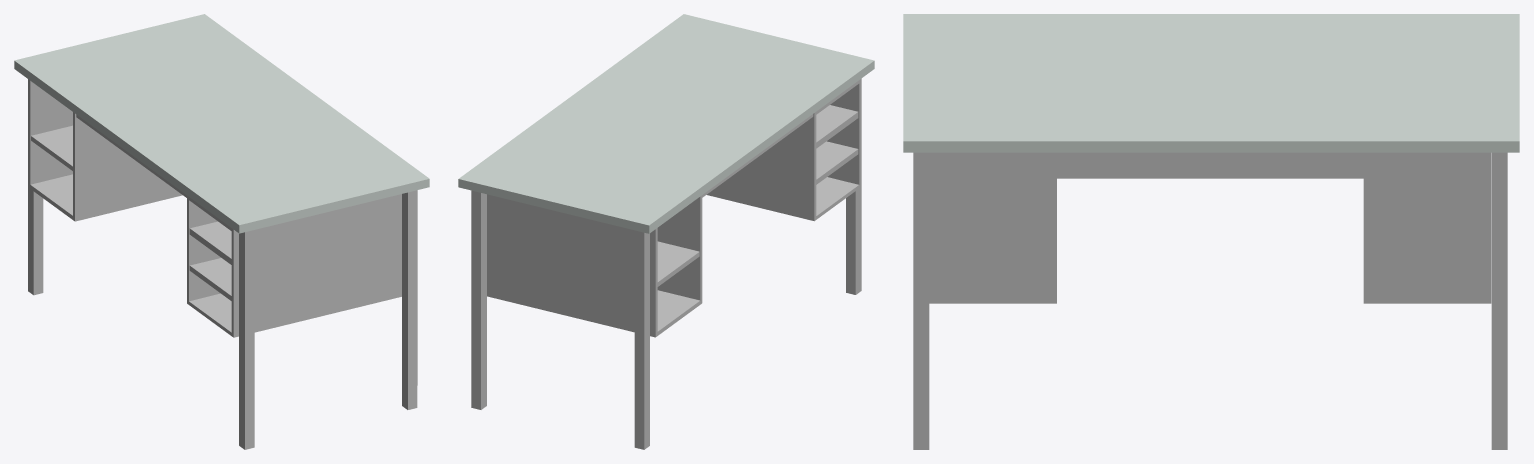
File: SM_Table_A_02.fbx
3 renders of one model, left to right at view 1: azimuth 30°, elevation 25°; view 2: azimuth 150°, elevation 25°; view 3: azimuth 270°, elevation 25°, orthographic. The views are drawn at different scales.
Visible parts, largest first — view 1: SM_Table_A_02; view 2: SM_Table_A_02; view 3: SM_Table_A_02.
Part boxes in pixels (x1,y1,x2,y2): SM_Table_A_02: [14, 14, 429, 449]; SM_Table_A_02: [458, 14, 874, 449]; SM_Table_A_02: [903, 14, 1519, 449].
Bounding box in the file's own units: 88.96 × 102 × 182.
